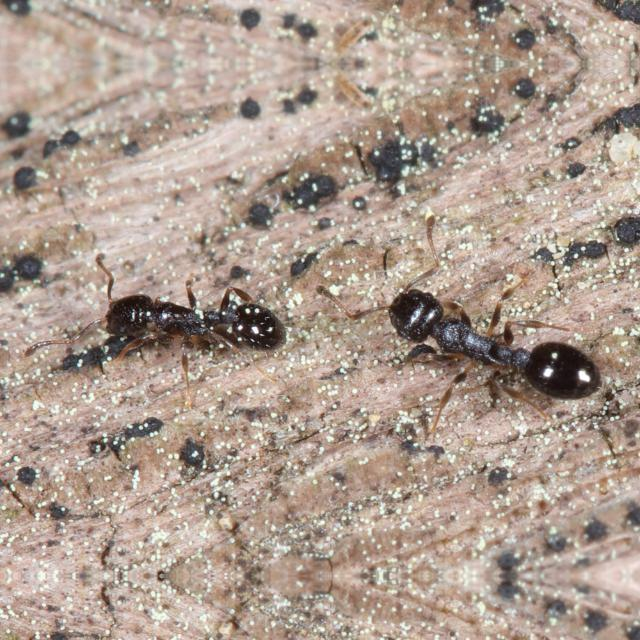Temnothorax: (348, 249, 626, 423), (54, 250, 314, 380)
